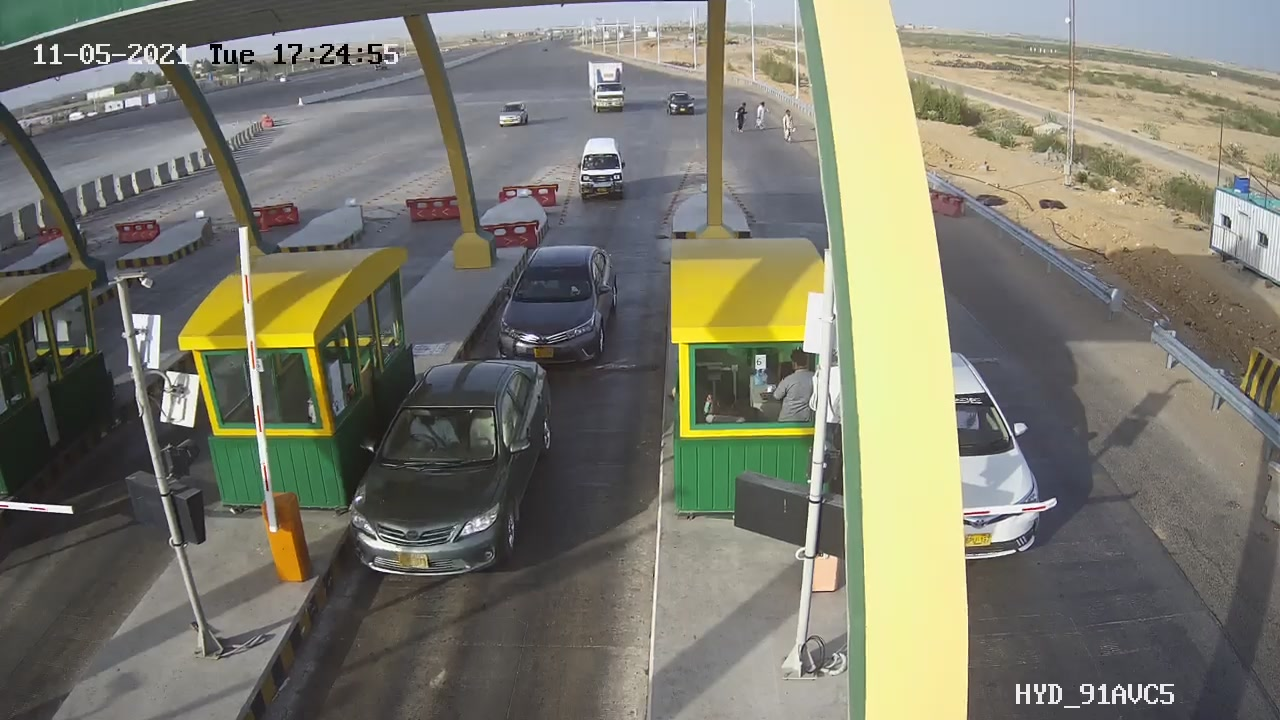F1: (330, 344, 577, 596), (476, 230, 629, 381)
